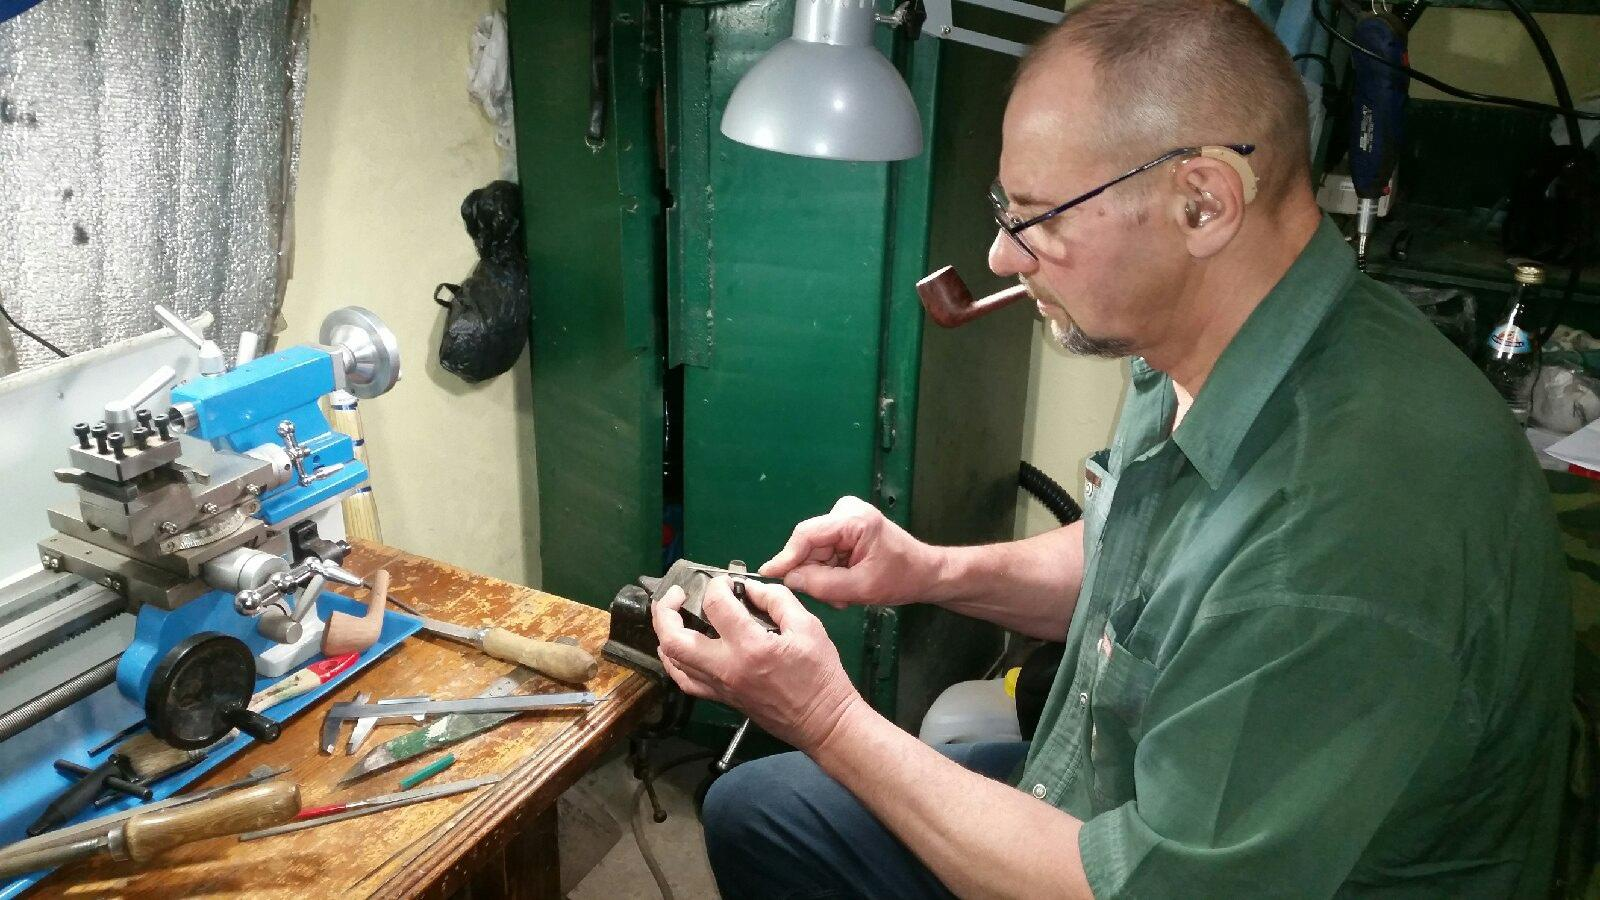trubka: (916, 266, 1027, 327)
